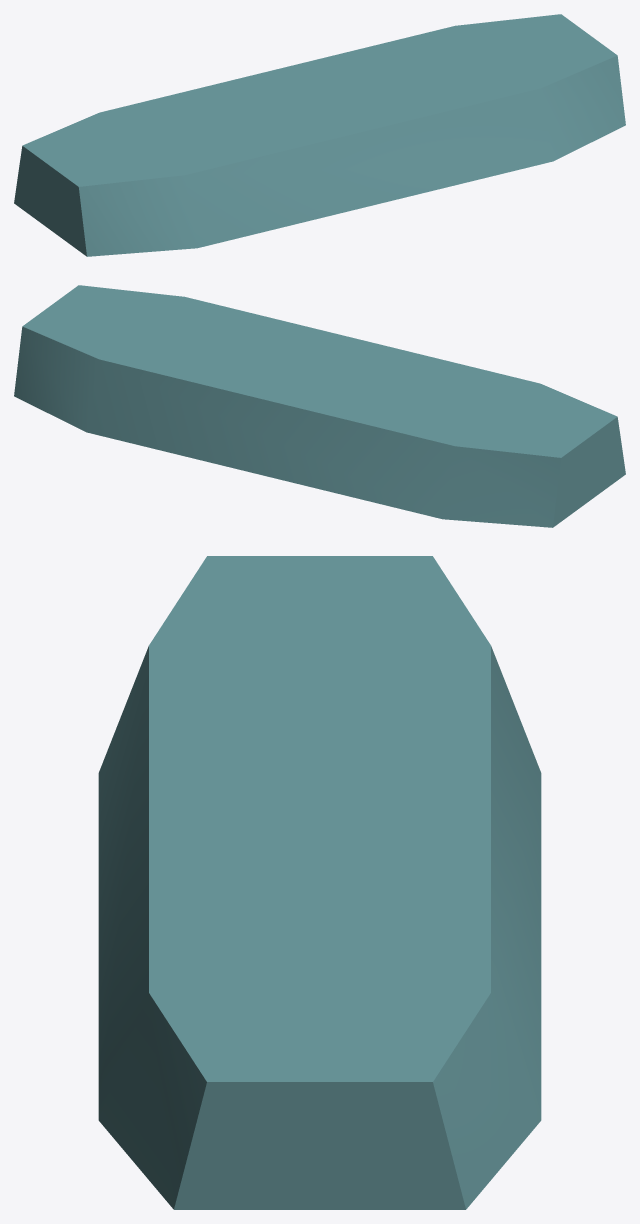
Rendered from item_rm_plasteel_b.obj.
3 views of the same model, one above another, from view 1: azimuth 30°, elevation 25°; view 2: azimuth 150°, elevation 25°; view 3: azimuth 270°, elevation 25° (orthographic). The views are drawn at different scales.
Visible parts, largest first — view 1: item_rm_plasteel_b; view 2: item_rm_plasteel_b; view 3: item_rm_plasteel_b.
Part boxes in pixels (x1,y1,x2,y2): item_rm_plasteel_b: [14, 14, 625, 256]; item_rm_plasteel_b: [14, 285, 625, 527]; item_rm_plasteel_b: [98, 556, 541, 1209].
Bounding box in the file's own units: 0.9028 × 0.1022 × 0.3212.
